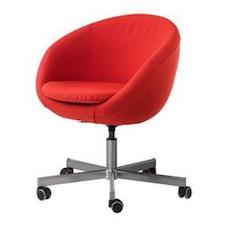chair: (12, 8, 207, 215)
